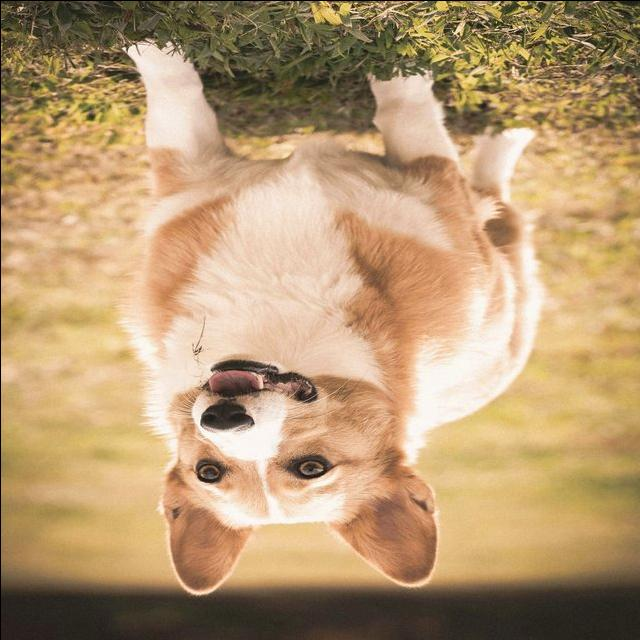corgi: (116, 36, 543, 597)
